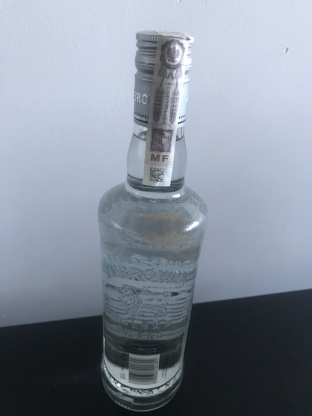nakretka: (131, 24, 197, 131)
